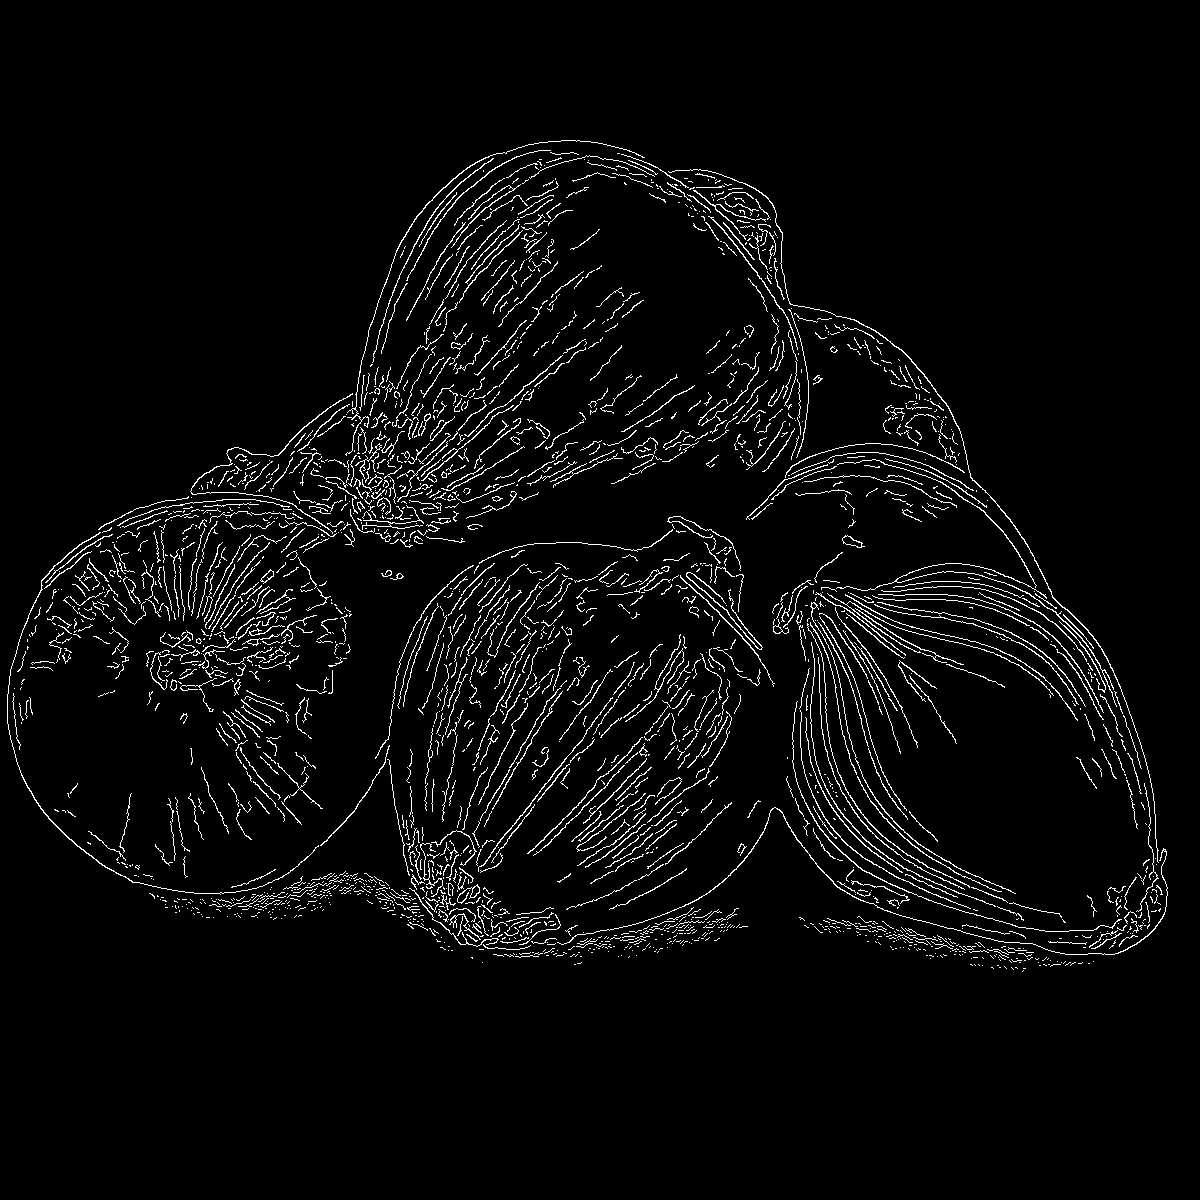red_onion: (345, 118, 800, 560), (395, 515, 766, 973), (768, 568, 1171, 973), (5, 481, 389, 899)
